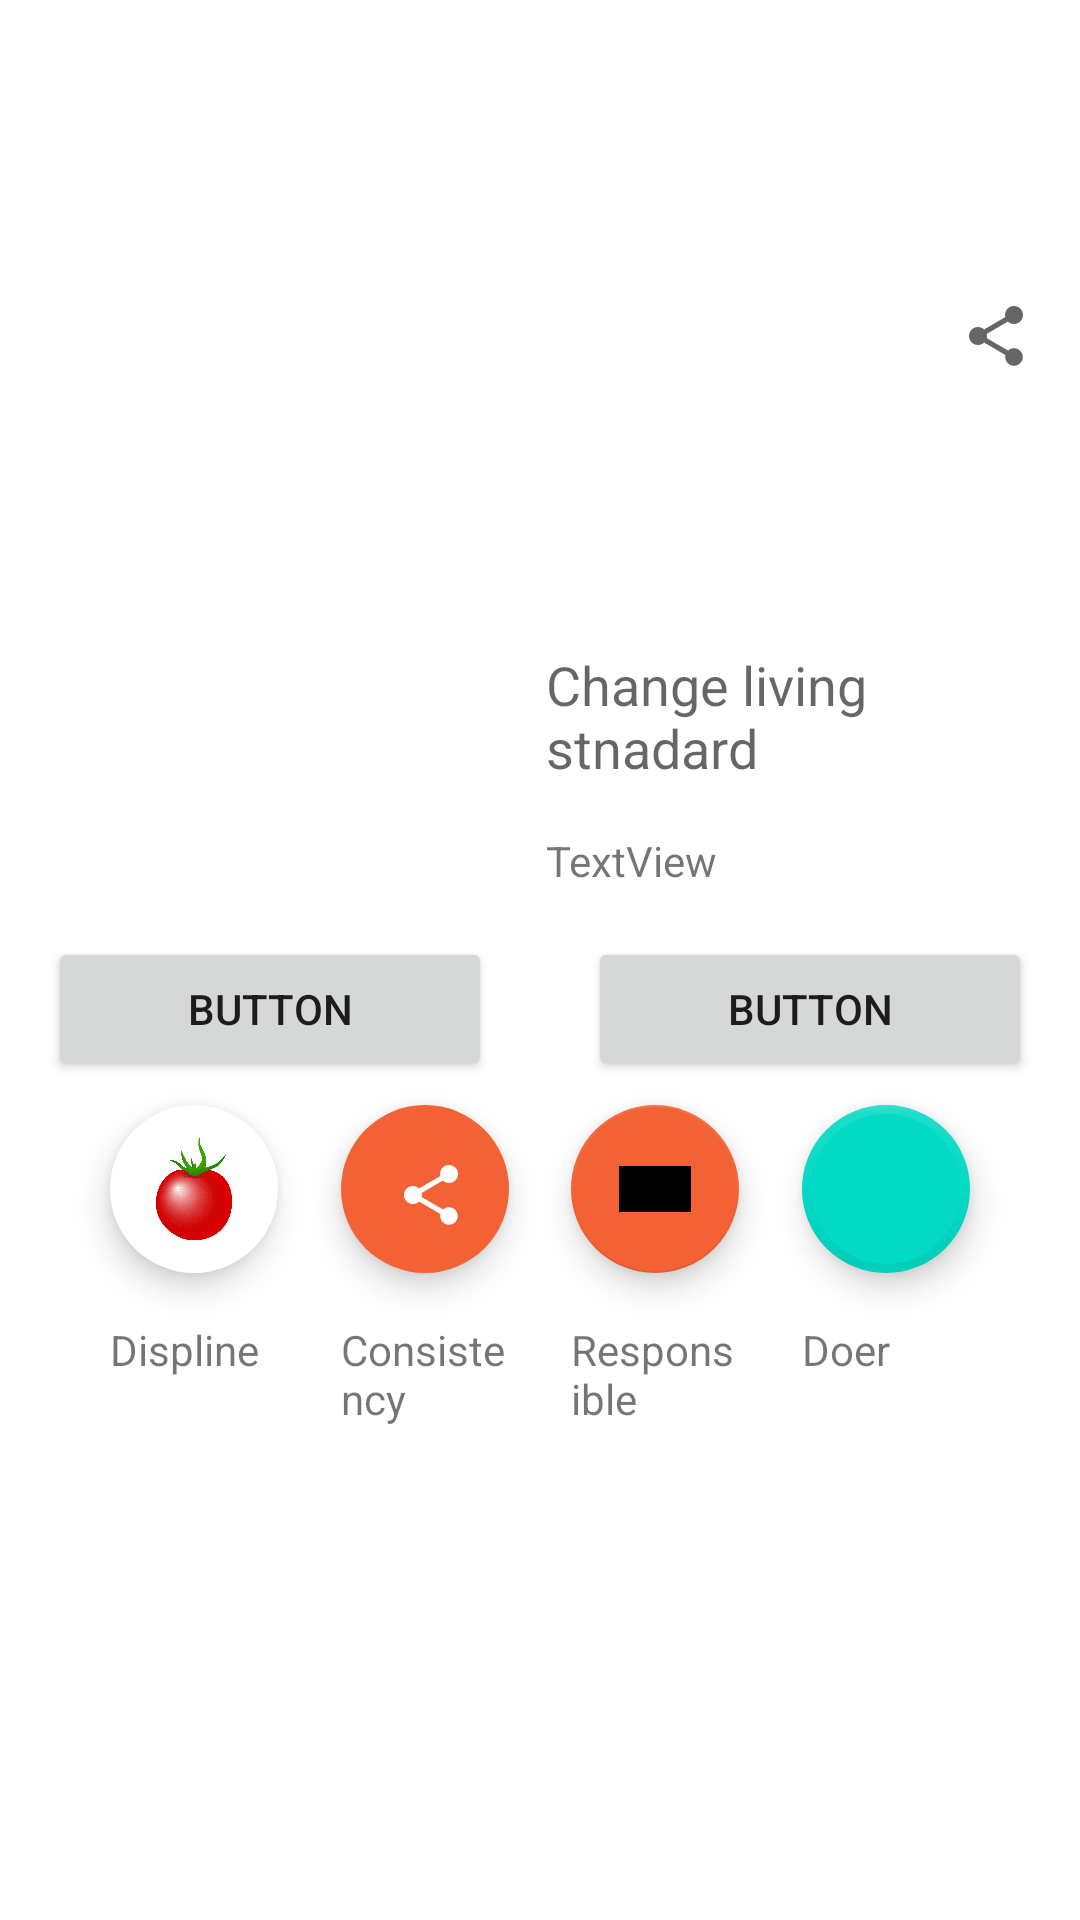

Icon click points for this 1080px x 1920px phone screenshot, format (x,y):
share: (996,336), (425,1189)
